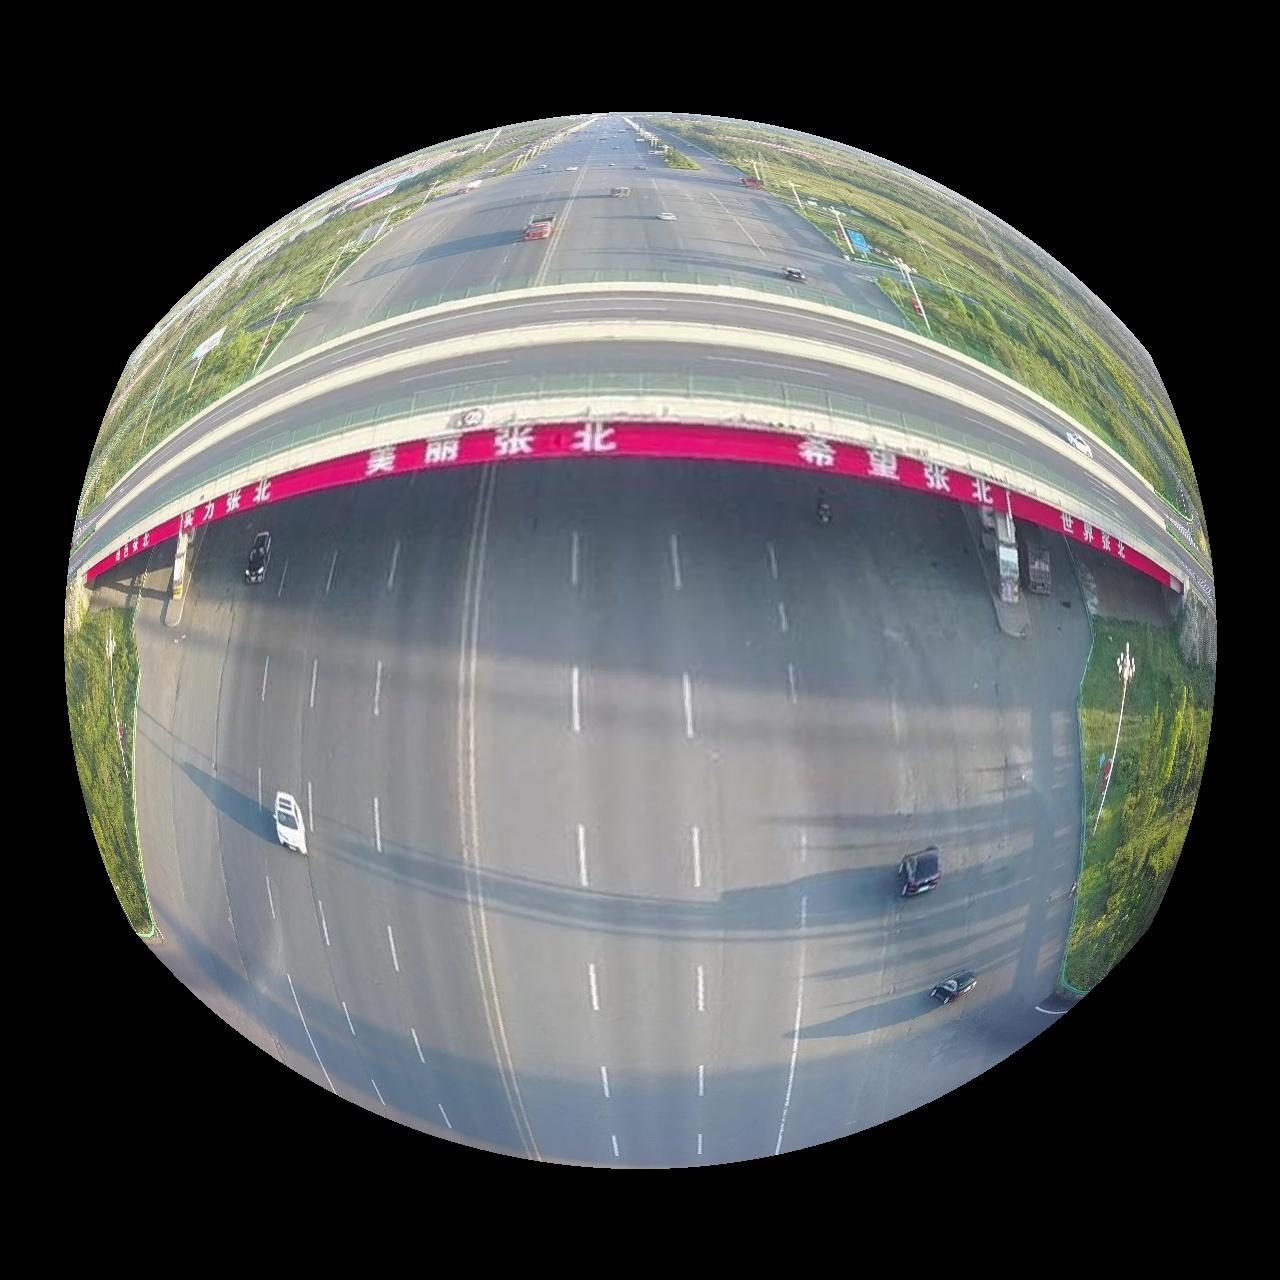cars: (900, 847, 942, 898), (272, 792, 305, 856), (931, 972, 979, 1007), (243, 531, 271, 585)
trees: (1064, 689, 1212, 994)
